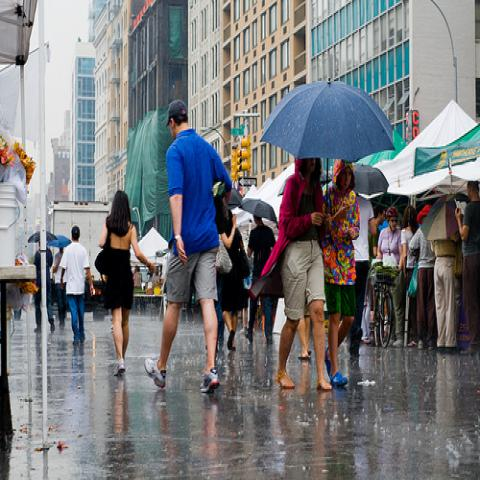truck: (48, 202, 112, 281)
